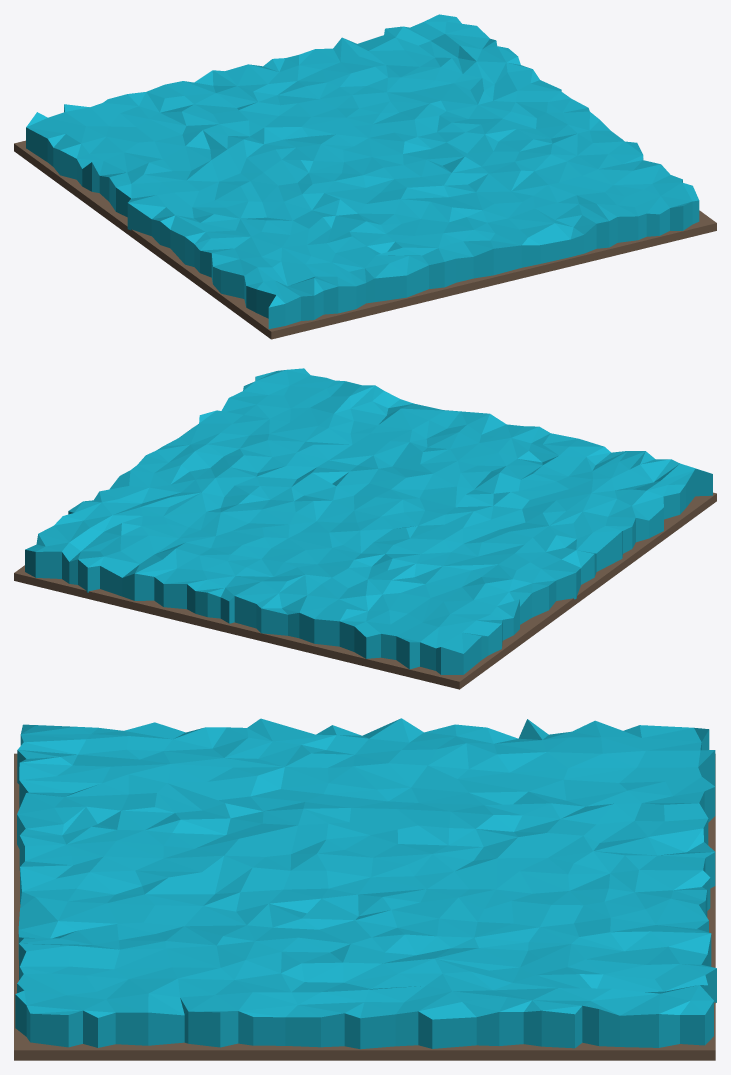
The model's file is SeaAnimated.fbx.
The picture shows the model from 3 angles, top to bottom: view 1: azimuth 30°, elevation 25°; view 2: azimuth 150°, elevation 25°; view 3: azimuth 270°, elevation 25°; orthographic projection. The views are drawn at different scales.
Visible parts, largest first — view 1: Plane.017; view 2: Plane.017; view 3: Plane.017.
Part boxes in pixels (x1,y1,x2,y2): Plane.017: (14,14,716,339); Plane.017: (14,368,716,689); Plane.017: (14,718,716,1060).
Bounding box in the file's own units: 6019 × 484 × 6011.
